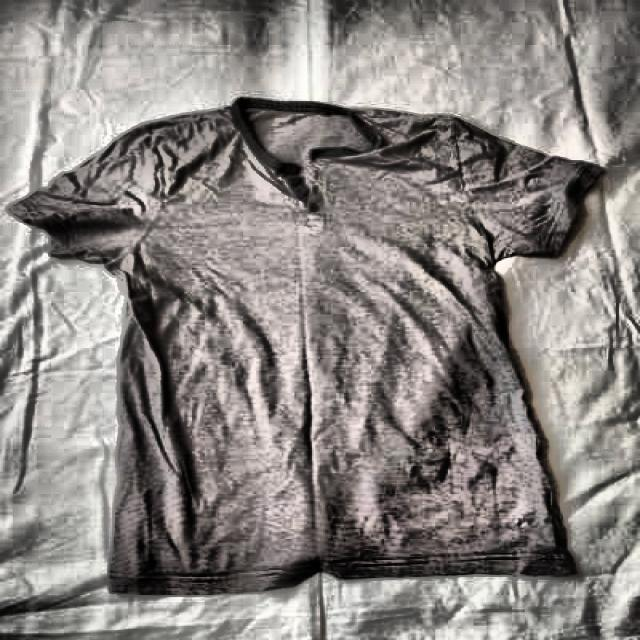clothes: (6, 94, 614, 587)
